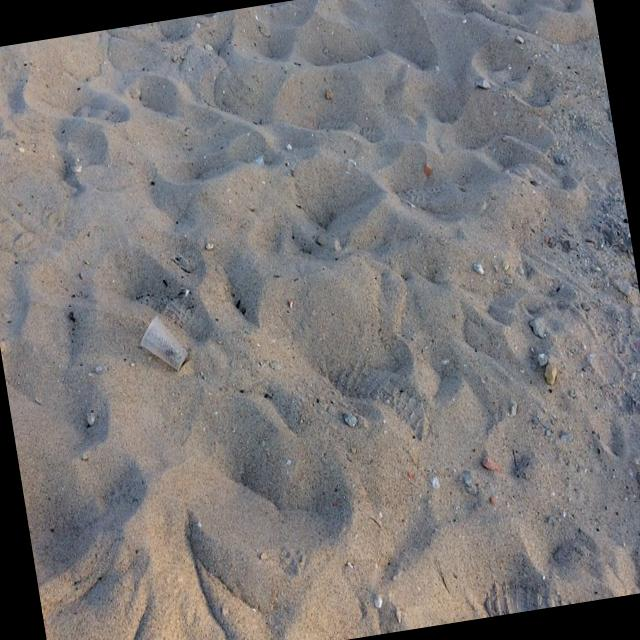Trash: (134, 310, 192, 378)
